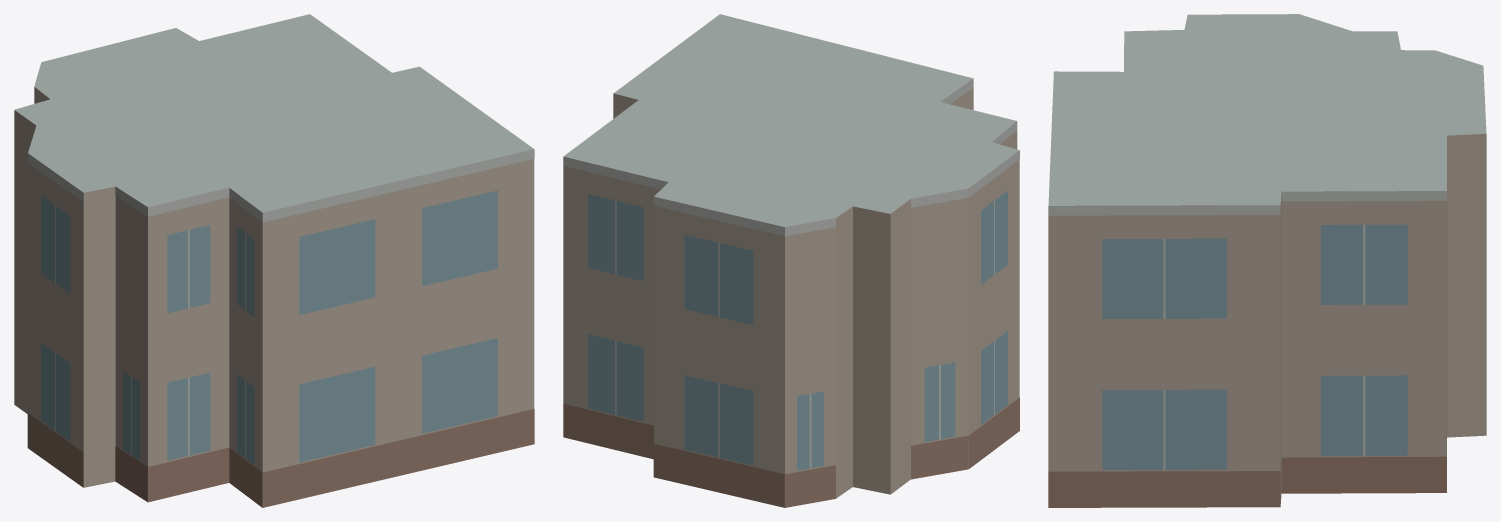
The model's file is survey-upis-32508112.glb.
3 renders of one model, left to right at view 1: azimuth 30°, elevation 25°; view 2: azimuth 150°, elevation 25°; view 3: azimuth 270°, elevation 25°, orthographic. The views are drawn at different scales.
Parts seen in each view (by area): view 1: survey-upis-32508112.tmp; view 2: survey-upis-32508112.tmp; view 3: survey-upis-32508112.tmp.
Part boxes in pixels (left/top/right/bottom): survey-upis-32508112.tmp: left=14, top=14, right=534, bottom=507; survey-upis-32508112.tmp: left=563, top=14, right=1019, bottom=507; survey-upis-32508112.tmp: left=1048, top=14, right=1486, bottom=507.
Size of the model in its own units: 10.23 by 7.5 by 9.87.
